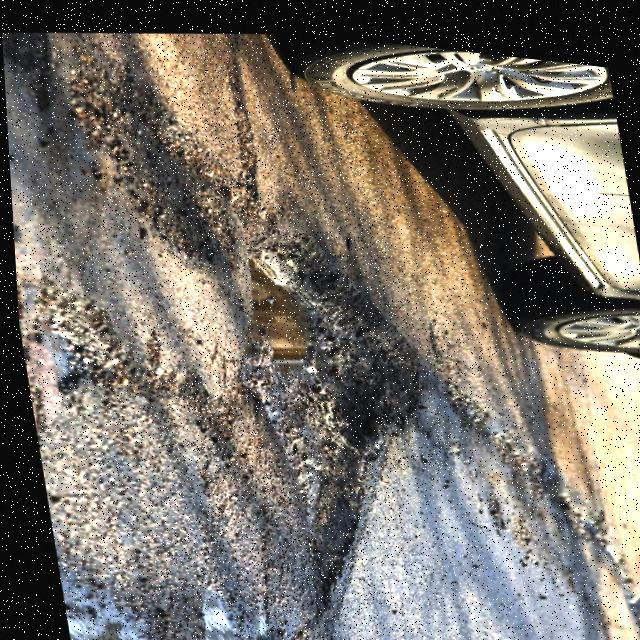pothole: (232, 232, 386, 454)
